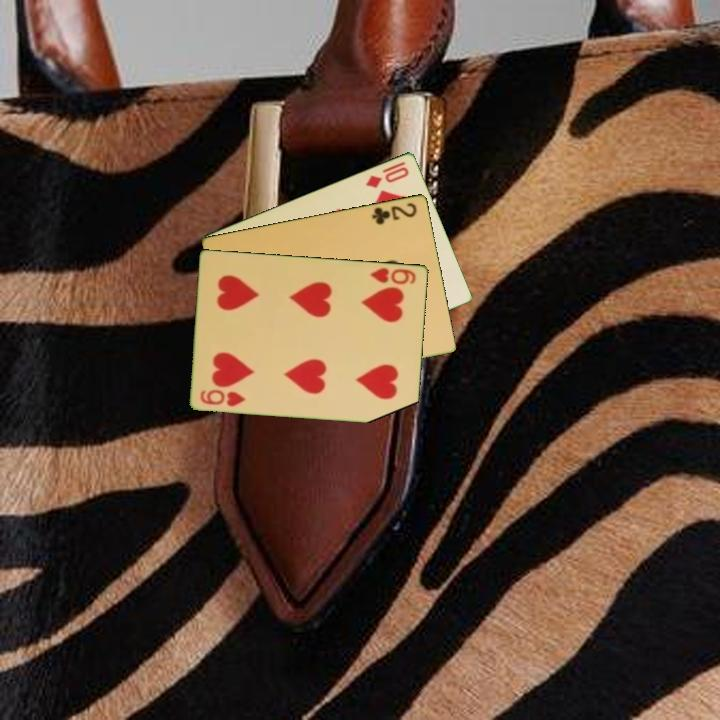10d: (362, 163, 412, 191)
2c: (369, 199, 420, 227)
6h: (367, 264, 419, 287), (197, 386, 249, 409)
